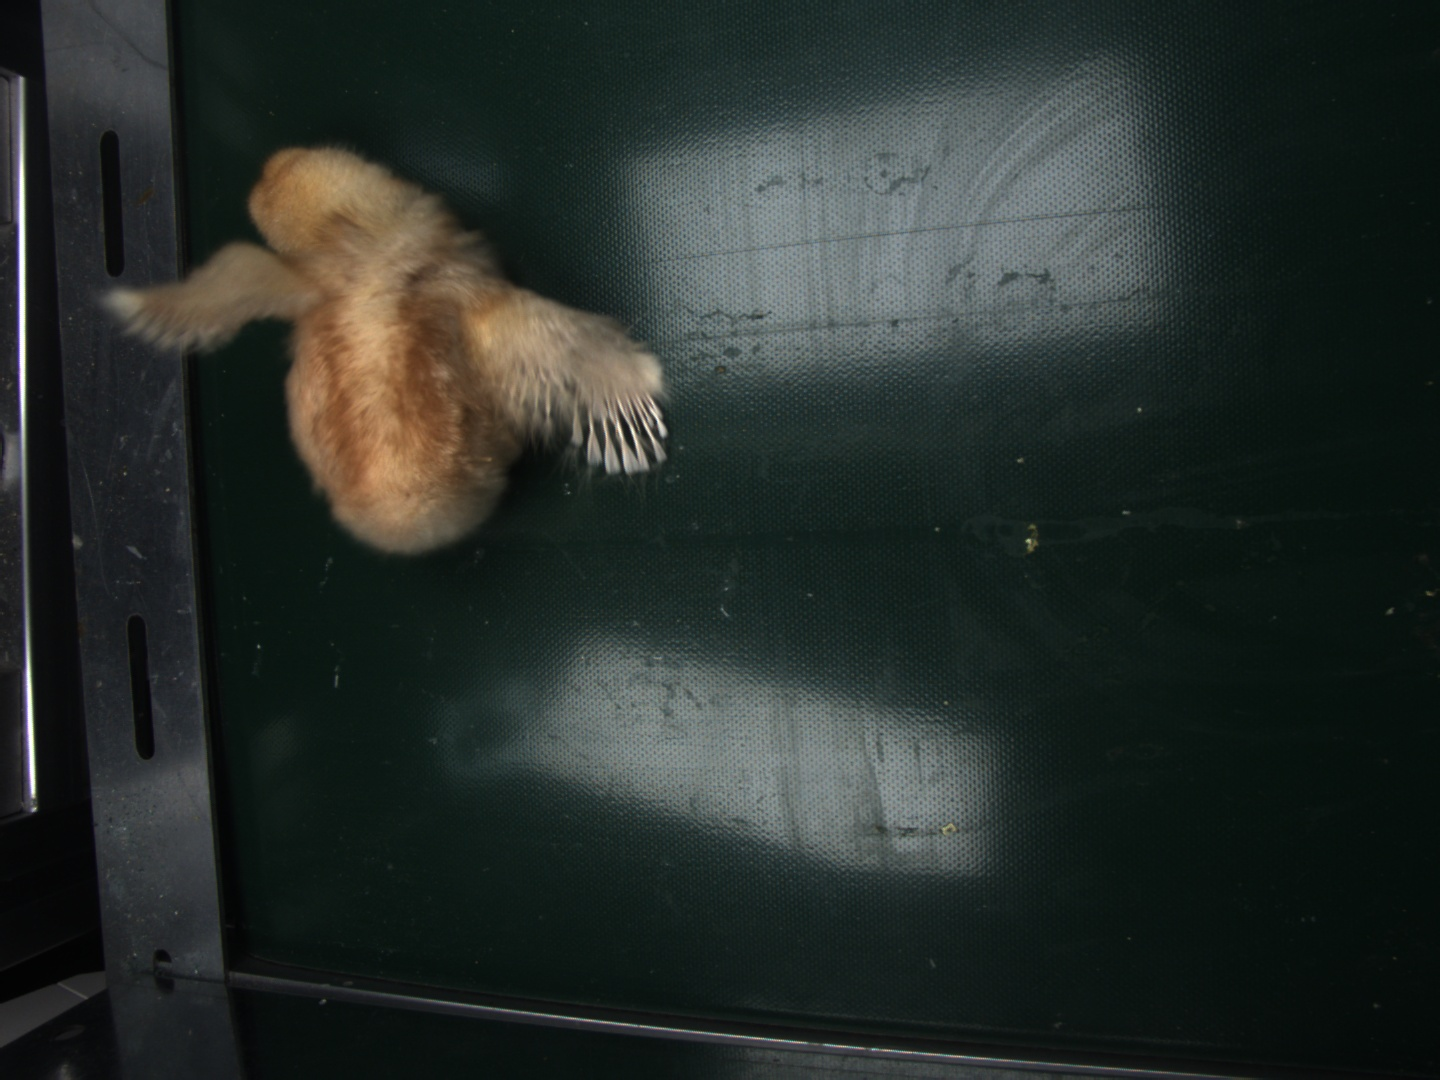female: (579, 389, 670, 476)
